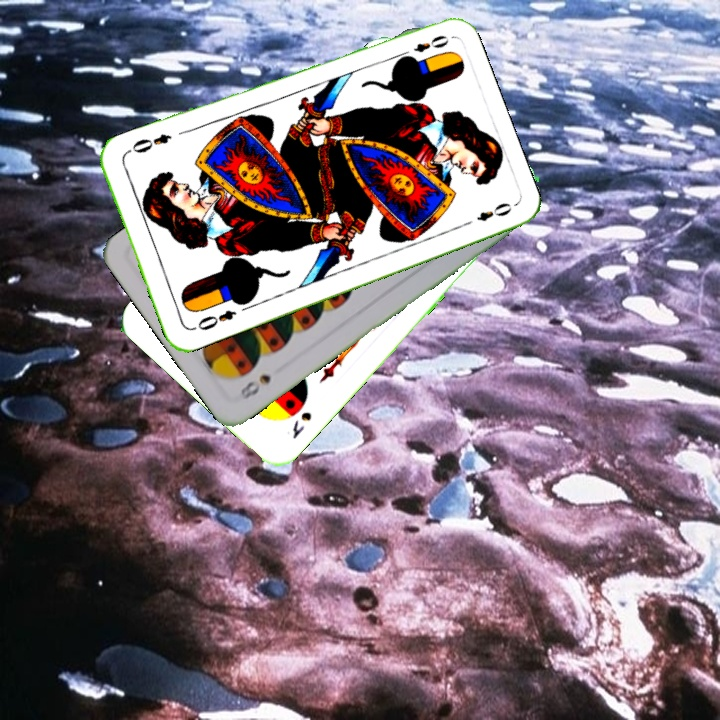EO: (193, 305, 239, 333), (410, 31, 452, 56)
S8: (236, 370, 274, 404)
SK: (288, 407, 314, 442)
